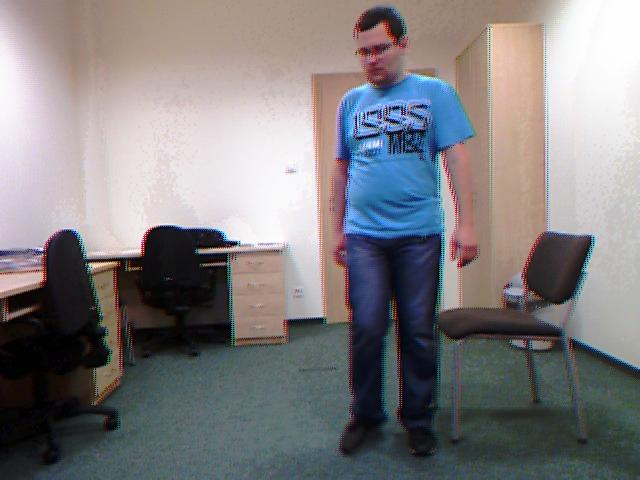standing: (330, 0, 485, 477)
